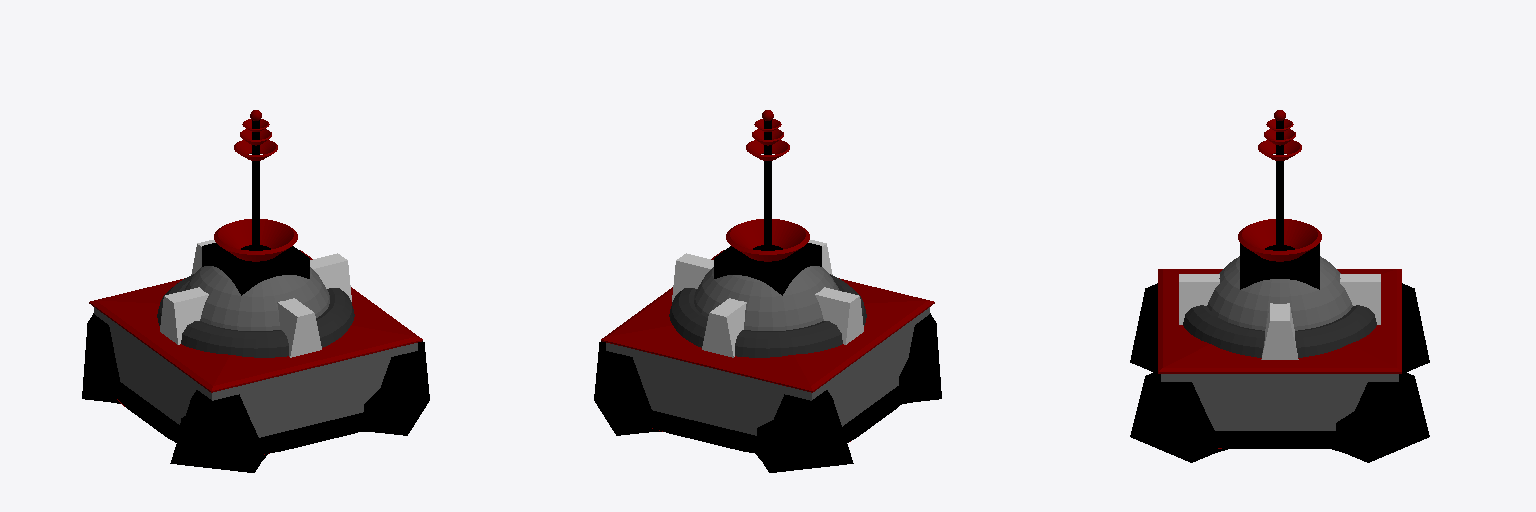
3 views of the same model, side by side, from view 1: azimuth 30°, elevation 25°; view 2: azimuth 150°, elevation 25°; view 3: azimuth 270°, elevation 25° (orthographic).
Parts seen in each view (by area): view 1: Cube_Cube.001, Cube.001_Cube.002, Sphere, Cube.004_Cube.005, Torus.004, Cube.003_Cube.007, Cube.002_Cube.006, Torus, Cube.005_Cube.004, Cylinder, Torus.001; view 2: Cube_Cube.001, Cube.004_Cube.005, Cube.001_Cube.002, Sphere, Torus.004, Cube.003_Cube.007, Cube.002_Cube.006, Torus, Cube.005_Cube.004, Cylinder, Torus.001; view 3: Cube_Cube.001, Cube.004_Cube.005, Cube.001_Cube.002, Sphere, Torus.004, Cube.005_Cube.004, Torus, Cube.002_Cube.006, Cube.003_Cube.007, Cylinder, Torus.001.
Boxes of the visible parts, x1=… form: Cube_Cube.001: x1=89, y1=250, x2=422, y2=454; Cube.001_Cube.002: x1=82, y1=313, x2=429, y2=435; Sphere: x1=184, y1=266, x2=329, y2=330; Cube.004_Cube.005: x1=170, y1=390, x2=267, y2=472; Torus.004: x1=157, y1=274, x2=354, y2=357; Cube.003_Cube.007: x1=160, y1=253, x2=351, y2=344; Cube.002_Cube.006: x1=202, y1=243, x2=309, y2=295; Torus: x1=214, y1=219, x2=297, y2=261; Cube.005_Cube.004: x1=191, y1=240, x2=321, y2=357; Cylinder: x1=252, y1=120, x2=259, y2=250; Torus.001: x1=234, y1=140, x2=277, y2=160; Cube_Cube.001: x1=601, y1=250, x2=934, y2=453; Cube.004_Cube.005: x1=594, y1=313, x2=941, y2=435; Cube.001_Cube.002: x1=756, y1=390, x2=853, y2=472; Sphere: x1=694, y1=266, x2=839, y2=330; Torus.004: x1=669, y1=274, x2=866, y2=357; Cube.003_Cube.007: x1=672, y1=253, x2=863, y2=344; Cube.002_Cube.006: x1=714, y1=243, x2=821, y2=295; Torus: x1=726, y1=219, x2=809, y2=261; Cube.005_Cube.004: x1=702, y1=240, x2=832, y2=357; Cylinder: x1=764, y1=120, x2=771, y2=250; Torus.001: x1=746, y1=140, x2=789, y2=160; Cube_Cube.001: x1=1153, y1=269, x2=1406, y2=448; Cube.004_Cube.005: x1=1130, y1=283, x2=1429, y2=462; Cube.001_Cube.002: x1=1130, y1=283, x2=1429, y2=462; Sphere: x1=1207, y1=256, x2=1352, y2=330; Torus.004: x1=1183, y1=305, x2=1376, y2=357; Cube.005_Cube.004: x1=1179, y1=274, x2=1380, y2=324; Torus: x1=1238, y1=219, x2=1321, y2=261; Cube.002_Cube.006: x1=1240, y1=243, x2=1319, y2=289; Cube.003_Cube.007: x1=1261, y1=303, x2=1298, y2=359; Cylinder: x1=1276, y1=120, x2=1283, y2=250; Torus.001: x1=1258, y1=140, x2=1301, y2=160.
Bounding box in the file's own units: 3.79 × 4.06 × 3.79.
3 materials, 1 textured.